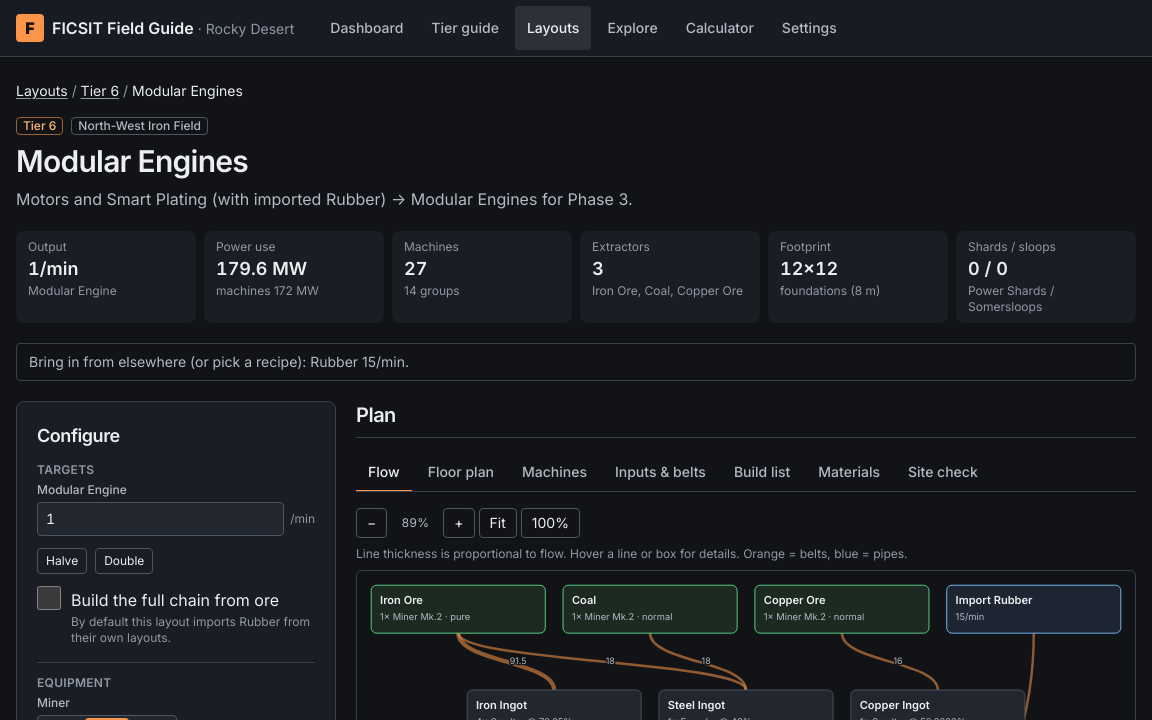
Scenario: layout configurator › imports intermediates by default and can build the full chain
Check: the heading "Modular Engines" is shown, box [16,143,248,179]
Check: the text "Bring in from elsewhere (or pick a recipe): Rubber 15/min." is shown, box [16,343,1136,381]
Click the checkbox labelled "Build the full chain from ore": (49, 598) [37,586,61,610]
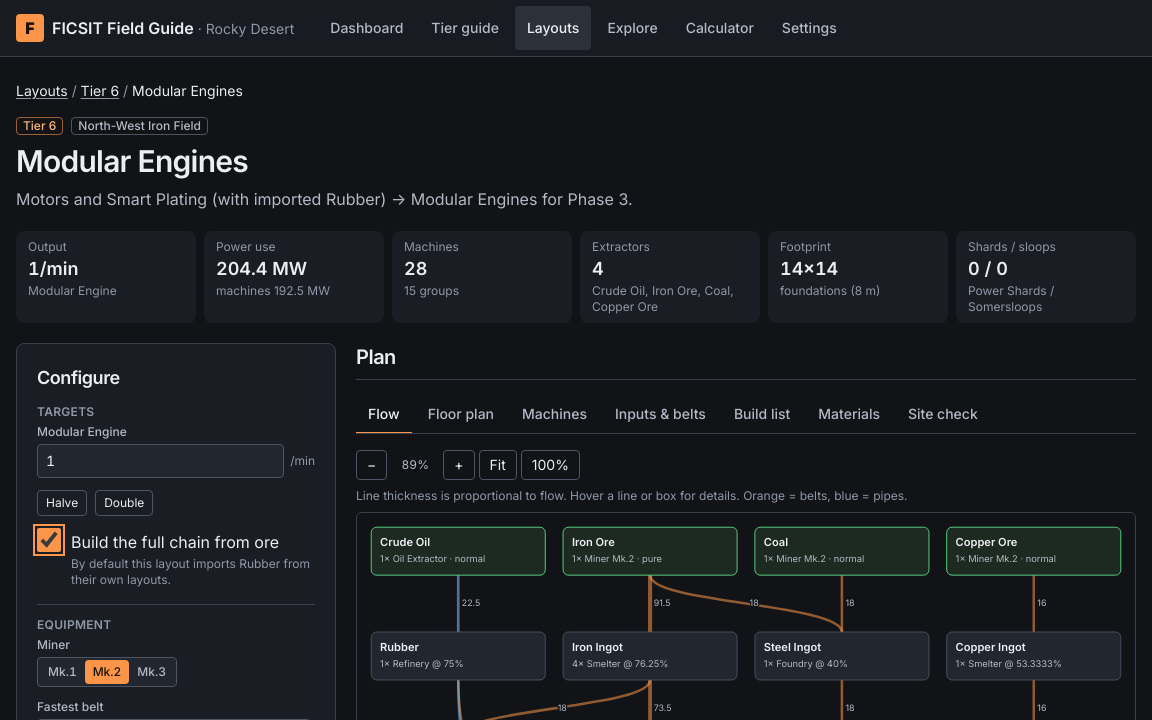
Check: the text "Bring in from elsewhere (or pick a recipe): Rubber 15/min." is gone
